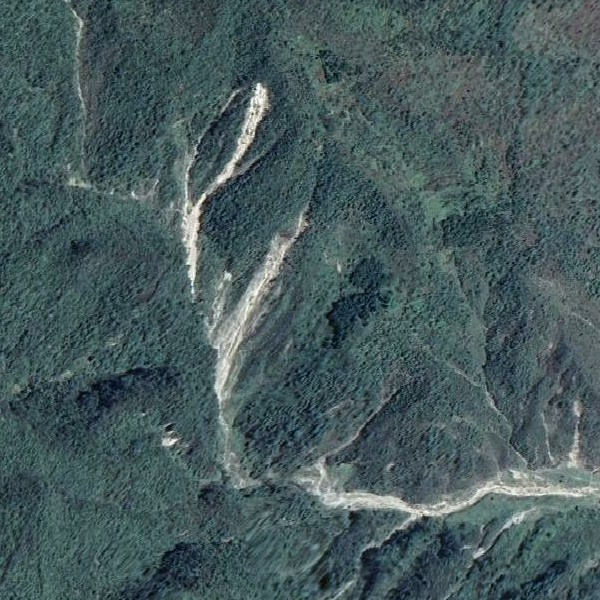slope: (283, 455, 596, 537), (204, 210, 316, 427), (177, 78, 274, 294)
